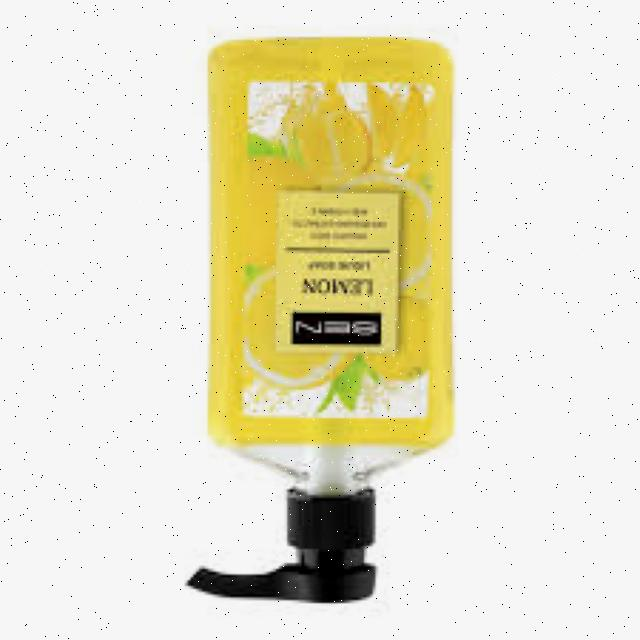liquid soap: (177, 36, 469, 614)
